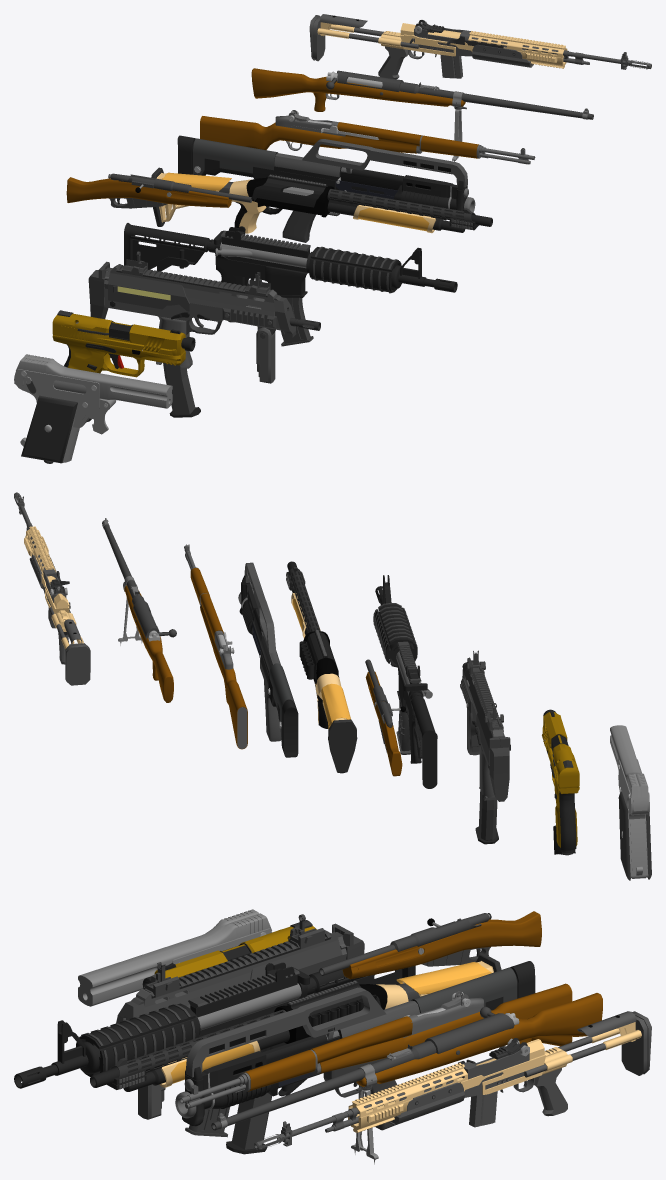
Rendered from weapon_pack_of_10100_part_10.glb.
3 views of the same model, one above another, from view 1: azimuth 30°, elevation 25°; view 2: azimuth 150°, elevation 25°; view 3: azimuth 270°, elevation 25° (orthographic). The views are drawn at different scales.
Parts seen in each view (by area): view 1: HK_MP7, Colt_M4A1, Kel_Tec_KS7, Mossberg_500_SWAT, 2MM_Kalibri, M14_EBR, M1_Grand, Mauser_1918T_Gewehr, Canit_TP9_Elite_Combat, Mosin_Nagant_Pistol; view 2: Colt_M4A1, HK_MP7, Mossberg_500_SWAT, Kel_Tec_KS7, 2MM_Kalibri, M14_EBR, Canit_TP9_Elite_Combat, M1_Grand, Mauser_1918T_Gewehr, Mosin_Nagant_Pistol; view 3: M14_EBR, Colt_M4A1, Kel_Tec_KS7, HK_MP7, Mauser_1918T_Gewehr, M1_Grand, Mossberg_500_SWAT, Mosin_Nagant_Pistol, 2MM_Kalibri, Canit_TP9_Elite_Combat.
Part boxes in pixels (left/top/right/bottom): HK_MP7: left=88, top=251, right=320, bottom=417; Colt_M4A1: left=124, top=223, right=457, bottom=346; Kel_Tec_KS7: left=177, top=135, right=475, bottom=242; Mossberg_500_SWAT: left=151, top=167, right=492, bottom=233; 2MM_Kalibri: left=14, top=354, right=172, bottom=463; M14_EBR: left=309, top=14, right=651, bottom=79; M1_Grand: left=200, top=110, right=535, bottom=164; Mauser_1918T_Gewehr: left=251, top=68, right=593, bottom=161; Canit_TP9_Elite_Combat: left=52, top=310, right=195, bottom=421; Mosin_Nagant_Pistol: left=66, top=173, right=252, bottom=208; Colt_M4A1: left=373, top=575, right=437, bottom=788; HK_MP7: left=460, top=650, right=510, bottom=844; Mossberg_500_SWAT: left=286, top=561, right=357, bottom=773; Kel_Tec_KS7: left=238, top=562, right=298, bottom=757; 2MM_Kalibri: left=610, top=725, right=651, bottom=880; M14_EBR: left=14, top=492, right=90, bottom=685; Canit_TP9_Elite_Combat: left=542, top=709, right=579, bottom=855; M1_Grand: left=184, top=544, right=247, bottom=749; Mauser_1918T_Gewehr: left=102, top=518, right=176, bottom=702; Mosin_Nagant_Pistol: left=365, top=659, right=405, bottom=776; M14_EBR: left=254, top=1011, right=651, bottom=1149; Colt_M4A1: left=14, top=962, right=415, bottom=1137; Kel_Tec_KS7: left=175, top=961, right=535, bottom=1130; HK_MP7: left=116, top=914, right=364, bottom=1154; Mauser_1918T_Gewehr: left=211, top=993, right=602, bottom=1164; M1_Grand: left=180, top=983, right=572, bottom=1108; Mossberg_500_SWAT: left=90, top=953, right=501, bottom=1091; Mosin_Nagant_Pistol: left=319, top=911, right=541, bottom=979; 2MM_Kalibri: left=78, top=909, right=271, bottom=1006; Canit_TP9_Elite_Combat: left=142, top=920, right=316, bottom=987.
Bounding box in the file's own units: 83.87 × 31.29 × 51.96.
2 materials, 2 textured.
